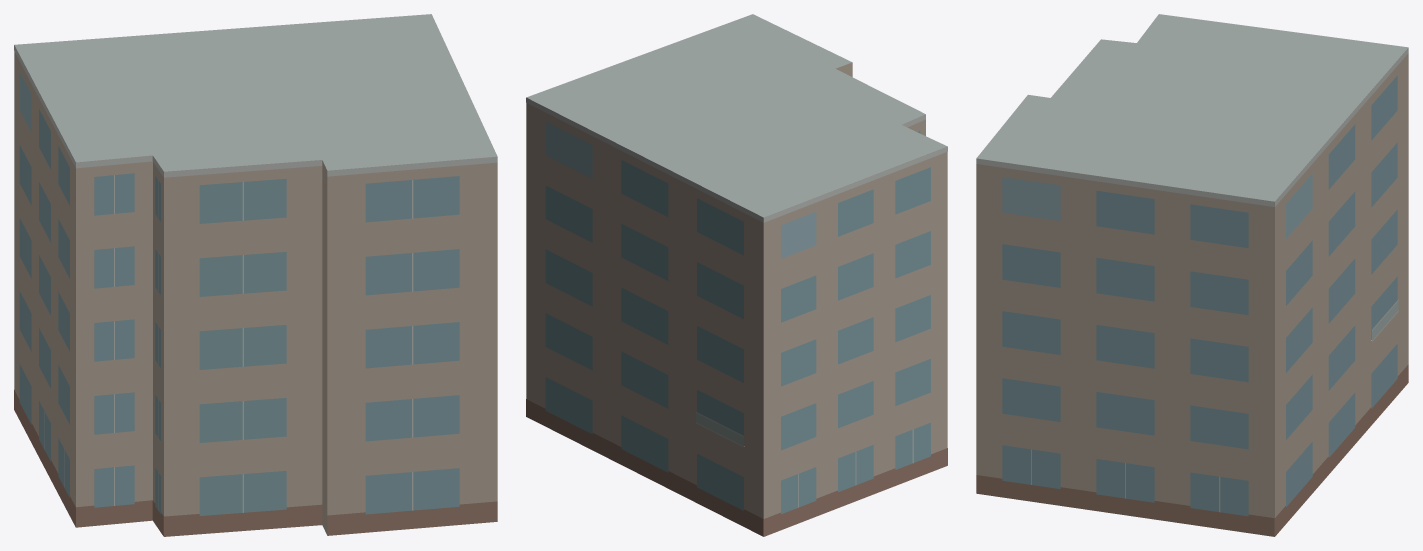
The model's file is survey-upis-33036424.glb.
3 views of the same model, side by side, from view 1: azimuth 30°, elevation 25°; view 2: azimuth 150°, elevation 25°; view 3: azimuth 270°, elevation 25° (orthographic). The views are drawn at different scales.
Parts seen in each view (by area): view 1: survey-upis-33036424.tmp; view 2: survey-upis-33036424.tmp; view 3: survey-upis-33036424.tmp.
Boxes of the visible parts, x1,y1,x2,y2 form: survey-upis-33036424.tmp: (14,14,497,536); survey-upis-33036424.tmp: (526,14,947,536); survey-upis-33036424.tmp: (976,14,1408,536).
Size of the model in its own units: 18.04 by 15.02 by 17.57.
